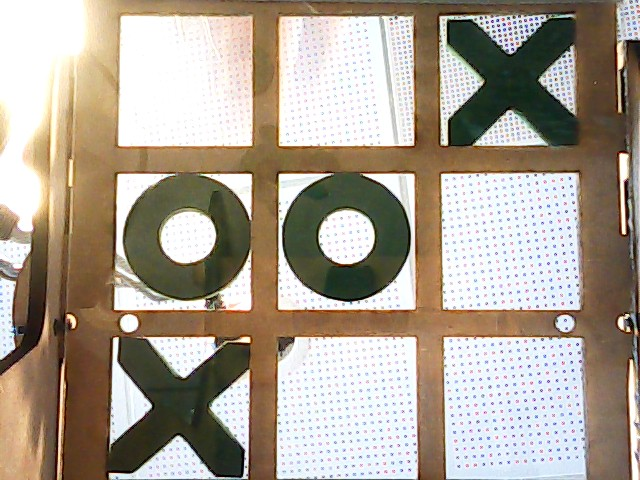O: (284, 172, 407, 301), (127, 170, 246, 291)
X: (113, 335, 250, 479), (444, 17, 580, 145)
